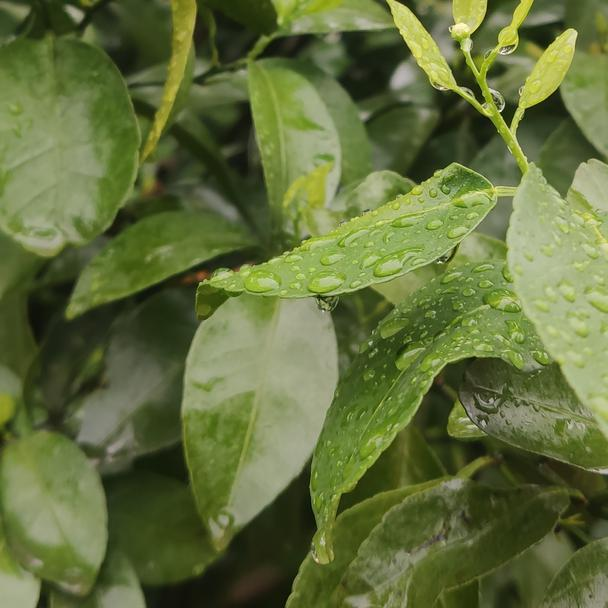shoot: (399, 2, 581, 158)
